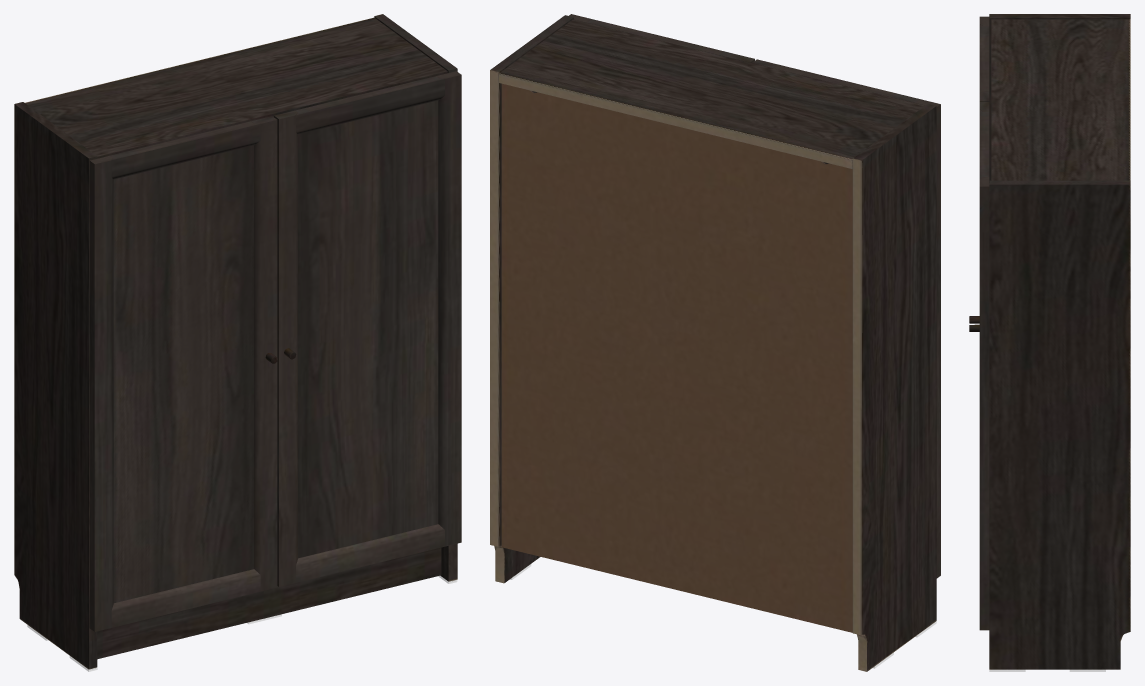
Rendered from billy_oxberg_bookcase_with_doors_dark_br.glb.
3 views of the same model, side by side, from view 1: azimuth 30°, elevation 25°; view 2: azimuth 150°, elevation 25°; view 3: azimuth 270°, elevation 25° (orthographic). The views are drawn at different scales.
Visible parts, largest first — view 1: Mesh_0; view 2: Mesh_0; view 3: Mesh_0.
Part boxes in pixels (left/top/right/bottom): Mesh_0: left=14, top=14, right=461, bottom=669; Mesh_0: left=490, top=14, right=940, bottom=671; Mesh_0: left=969, top=14, right=1130, bottom=669.
Bounding box in the file's own units: 0.8 × 1.06 × 0.32.
Materials: 2 (2 with a texture image).
